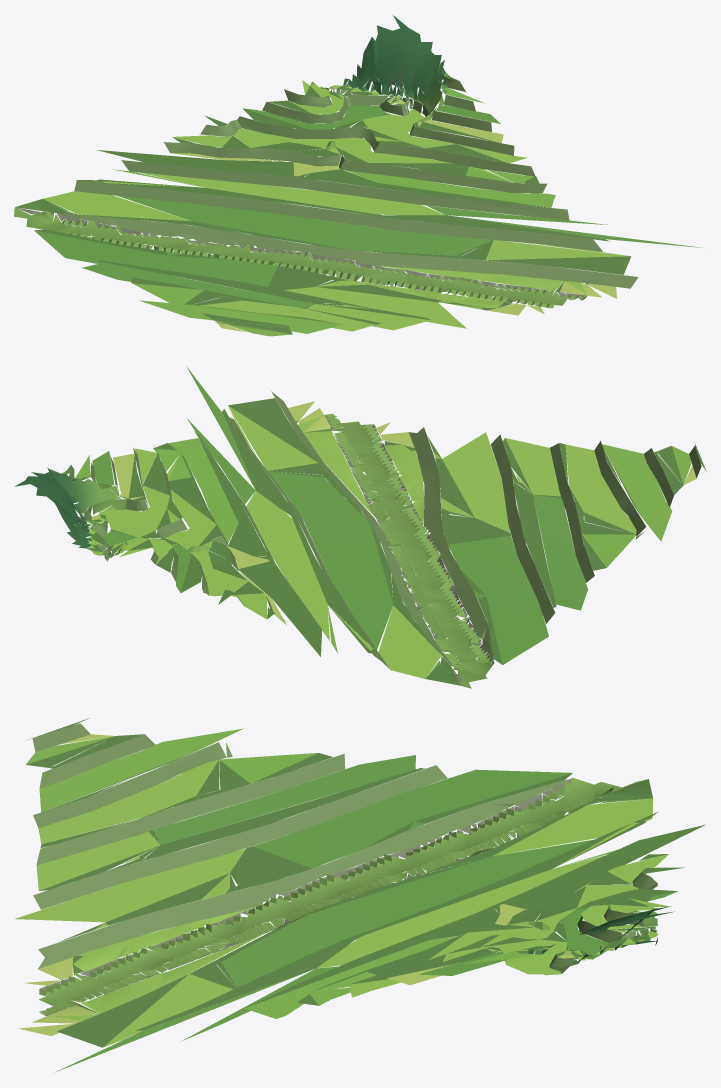
File: payo_land_xm4_y7_lod1.glb
The picture shows the model from 3 angles, top to bottom: view 1: azimuth 30°, elevation 25°; view 2: azimuth 150°, elevation 25°; view 3: azimuth 270°, elevation 25°; orthographic projection. The views are drawn at different scales.
Parts seen in each view (by area): view 1: payo_land_xm4_y7; view 2: payo_land_xm4_y7; view 3: payo_land_xm4_y7.
Part boxes in pixels (<box>): payo_land_xm4_y7: <box>14,15,702,336</box>; payo_land_xm4_y7: <box>15,366,706,688</box>; payo_land_xm4_y7: <box>15,718,705,1071</box>.
Size of the model in its own units: 319 by 63.96 by 289.
